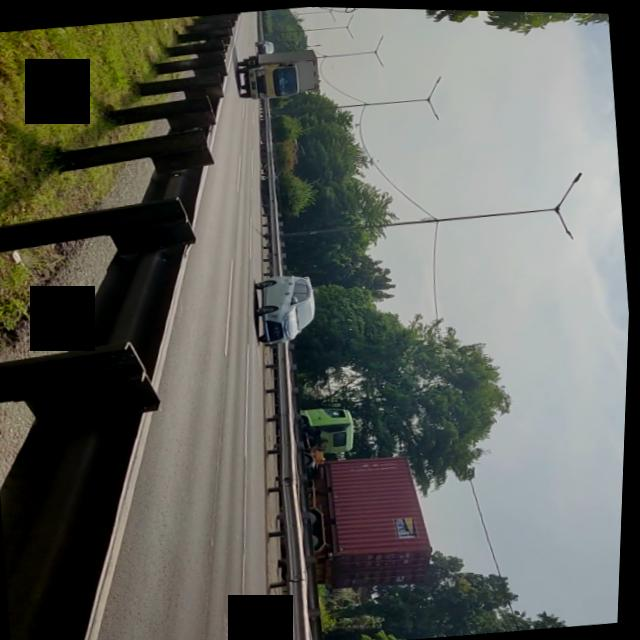Golongan I: (246, 267, 323, 350)
